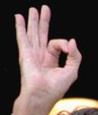left: (13, 6, 81, 94)
